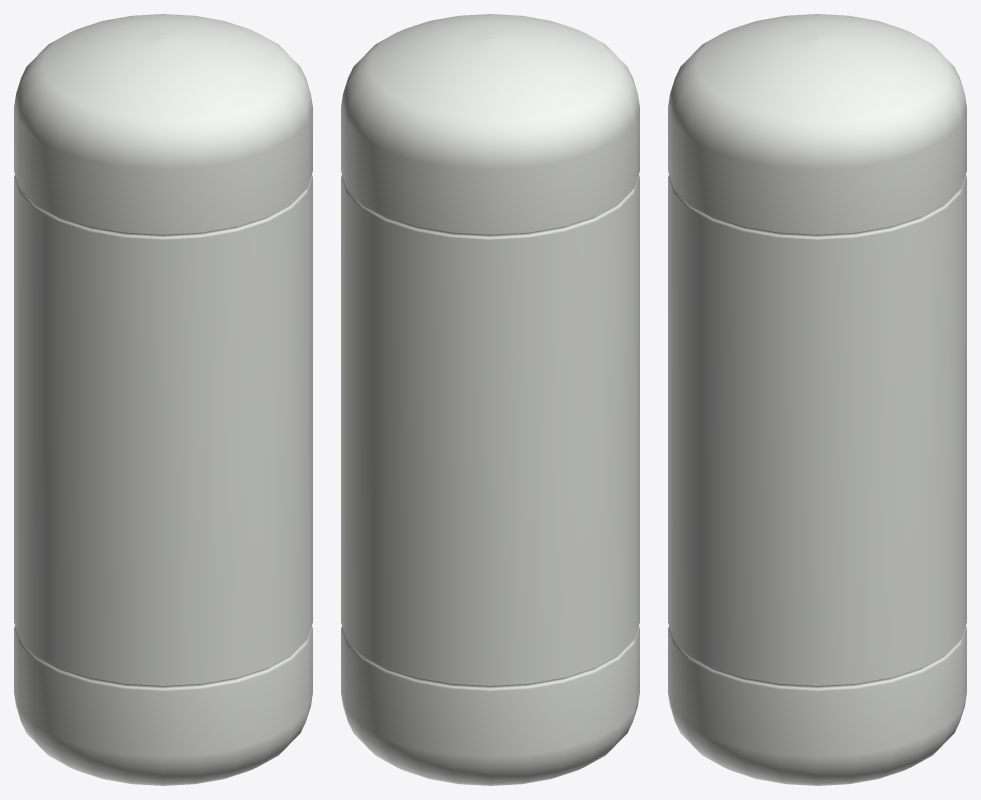
File: propane-large-shell-authored-atlas.glb
The picture shows the model from 3 angles, left to right: view 1: azimuth 30°, elevation 25°; view 2: azimuth 150°, elevation 25°; view 3: azimuth 270°, elevation 25°; orthographic projection.
Visible parts, largest first — view 1: Authored surface; view 2: Authored surface; view 3: Authored surface.
Boxes of the visible parts, x1,y1,x2,y2 form: Authored surface: (14,14,312,785); Authored surface: (341,14,639,785); Authored surface: (668,14,966,785).
Size of the model in its own units: 3 by 8 by 3.
Materials: 1 (1 with a texture image).
